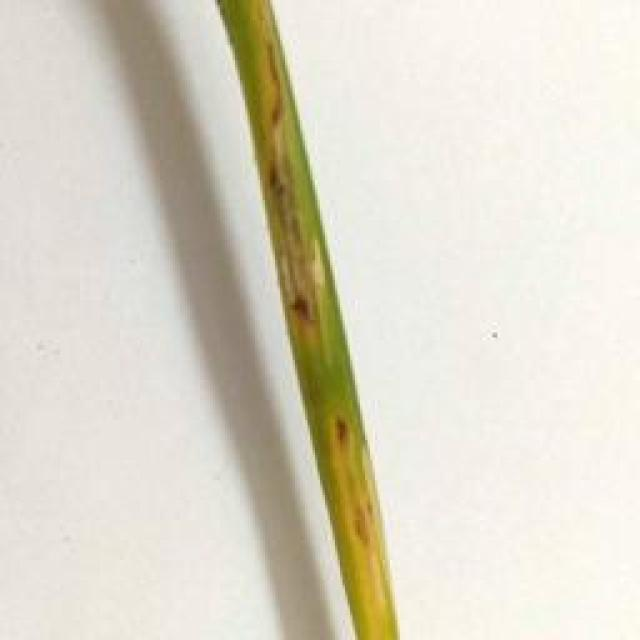Bacterial_Blight: (246, 41, 334, 344), (325, 411, 398, 640)
